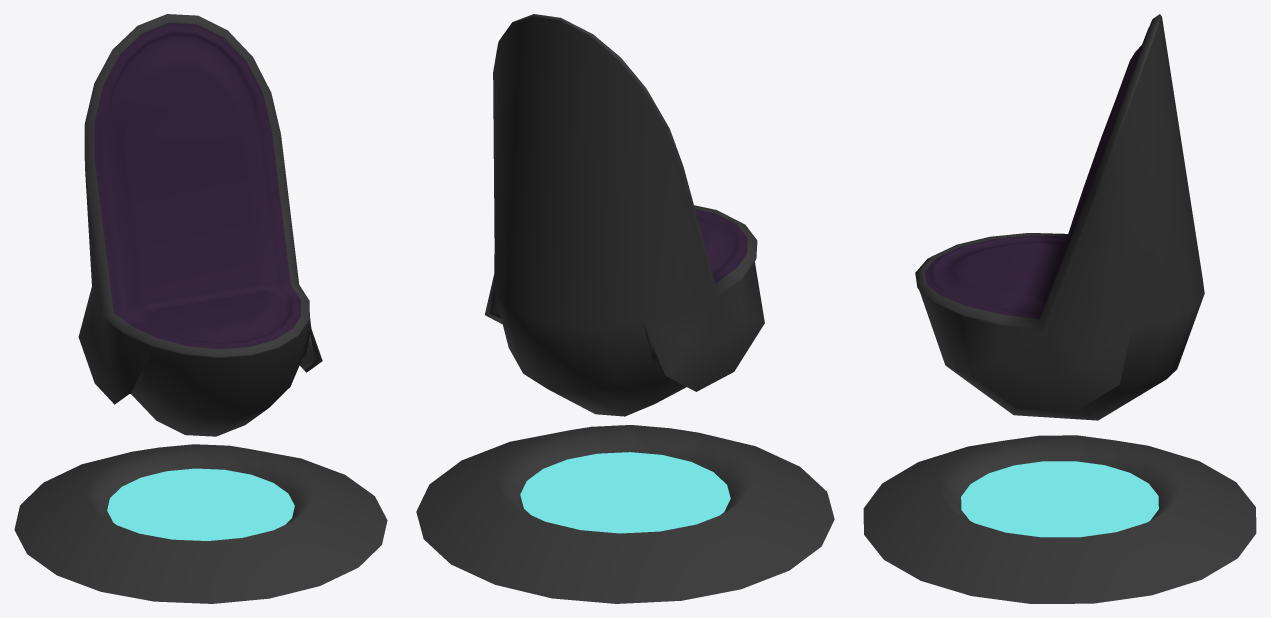
File: CaptainsQuarters_Chair.fbx
3 views of the same model, side by side, from view 1: azimuth 30°, elevation 25°; view 2: azimuth 150°, elevation 25°; view 3: azimuth 270°, elevation 25° (orthographic). The views are drawn at different scales.
Parts seen in each view (by area): view 1: CaptainsQuarters_Chair; view 2: CaptainsQuarters_Chair; view 3: CaptainsQuarters_Chair.
Part boxes in pixels (x1,y1,x2,y2): CaptainsQuarters_Chair: (14, 14, 387, 603); CaptainsQuarters_Chair: (416, 14, 834, 603); CaptainsQuarters_Chair: (863, 14, 1256, 603).
Size of the model in its own units: 3.93 by 5.57 by 3.93.
